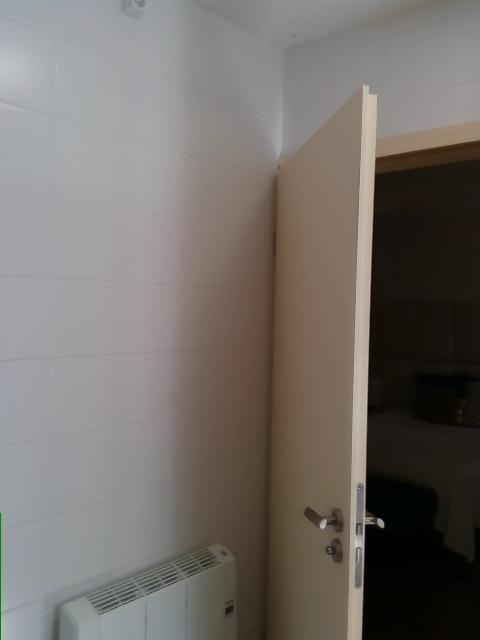semi_door: (265, 81, 478, 639)
